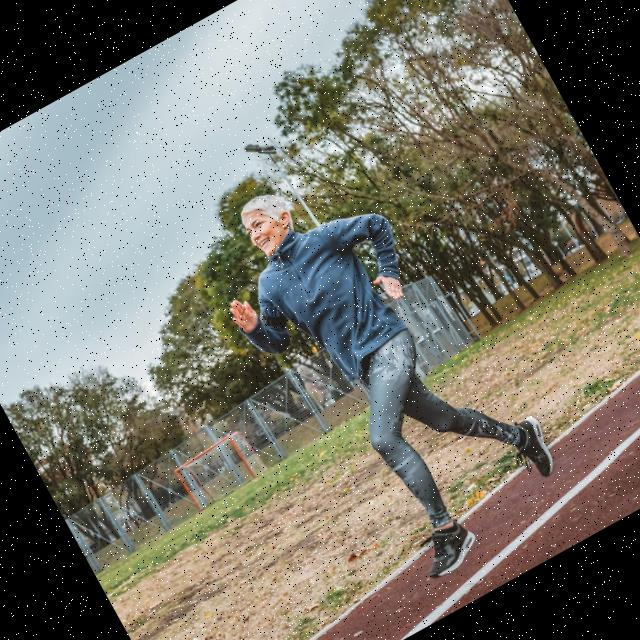Person: (185, 128, 582, 606)
